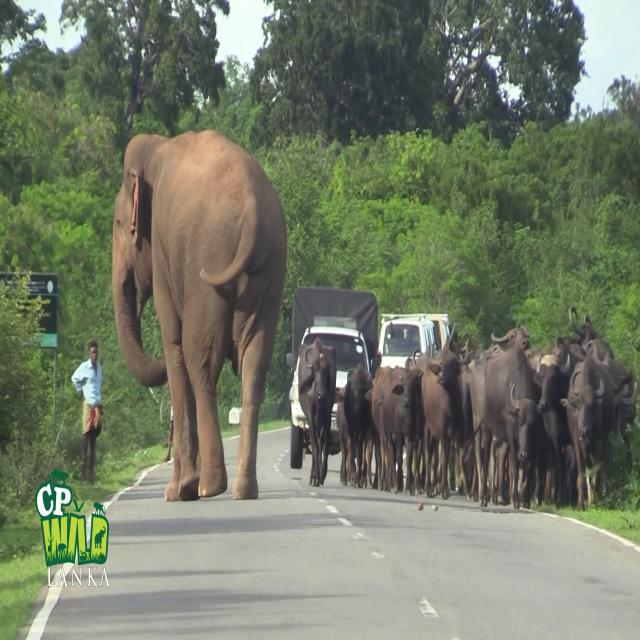Elephant: (111, 127, 288, 502)
person: (70, 339, 104, 485), (164, 405, 174, 462)
